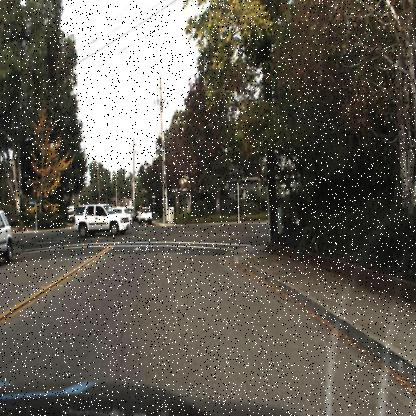car: (73, 200, 131, 234), (0, 204, 13, 266), (136, 204, 153, 226)
trafficLight-Red: (160, 174, 168, 197), (163, 176, 169, 193)
